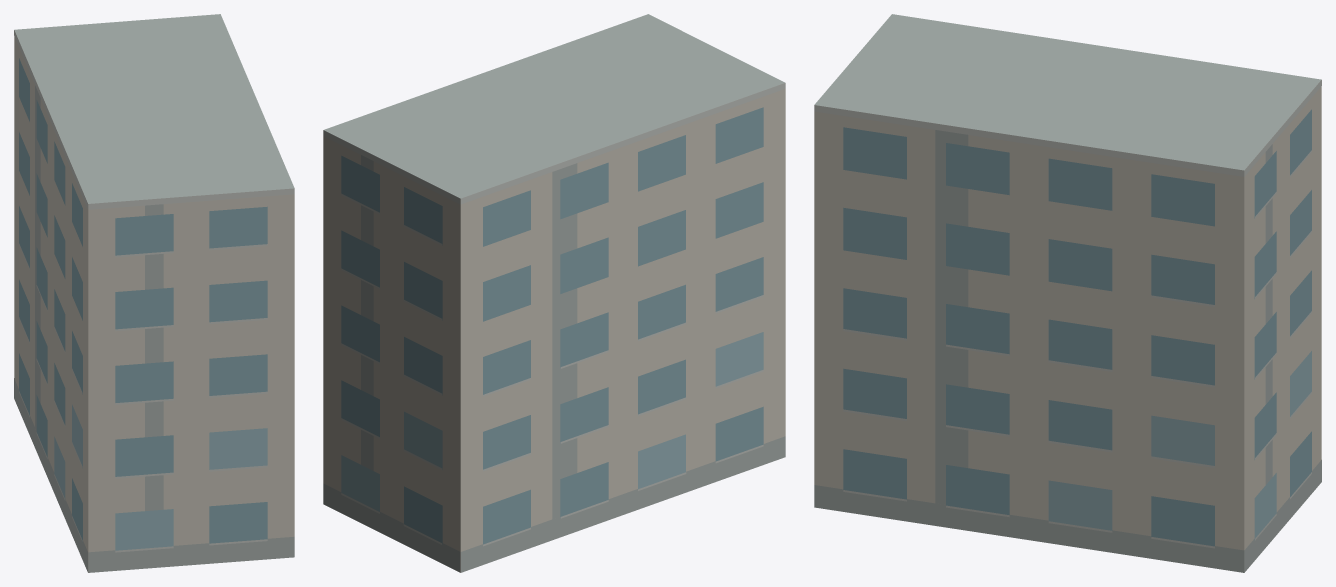
File: residential-8c2644ed-c46e-4b83-b25e-a2517575fe3f.glb
3 views of the same model, side by side, from view 1: azimuth 30°, elevation 25°; view 2: azimuth 150°, elevation 25°; view 3: azimuth 270°, elevation 25° (orthographic). The views are drawn at different scales.
Visible parts, largest first — view 1: residential-8c2644ed-c46e-4b83-b25e-a2517575fe3f.tmp; view 2: residential-8c2644ed-c46e-4b83-b25e-a2517575fe3f.tmp; view 3: residential-8c2644ed-c46e-4b83-b25e-a2517575fe3f.tmp.
Boxes of the visible parts, x1=… form: residential-8c2644ed-c46e-4b83-b25e-a2517575fe3f.tmp: x1=14, y1=14, x2=294, y2=572; residential-8c2644ed-c46e-4b83-b25e-a2517575fe3f.tmp: x1=323, y1=14, x2=785, y2=572; residential-8c2644ed-c46e-4b83-b25e-a2517575fe3f.tmp: x1=814, y1=14, x2=1321, y2=572.
Bounding box in the file's own units: 12.73 × 15.25 × 17.44.
